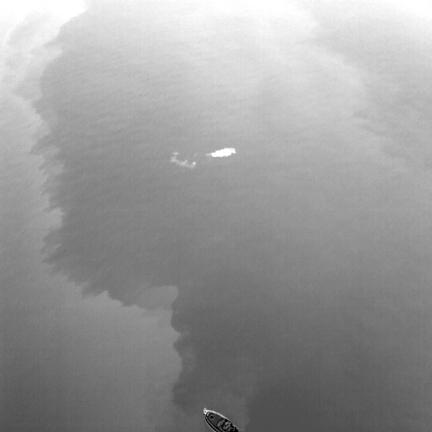flukeprints: (207, 148, 236, 157)
